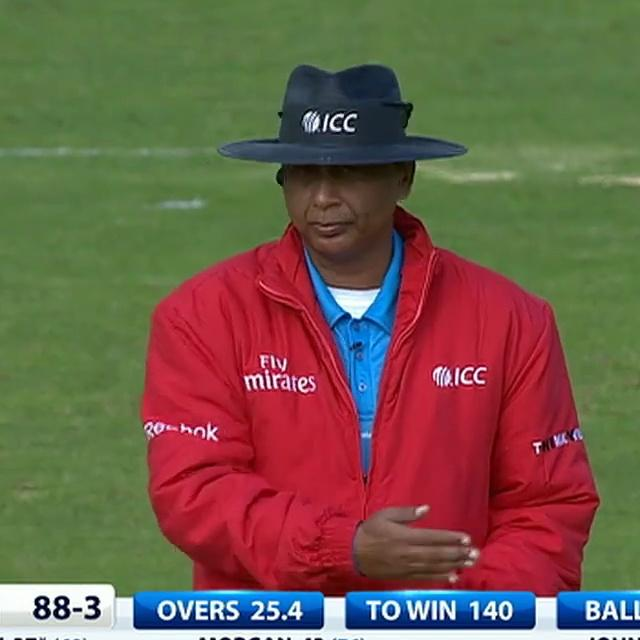umpire: (105, 22, 628, 592)
